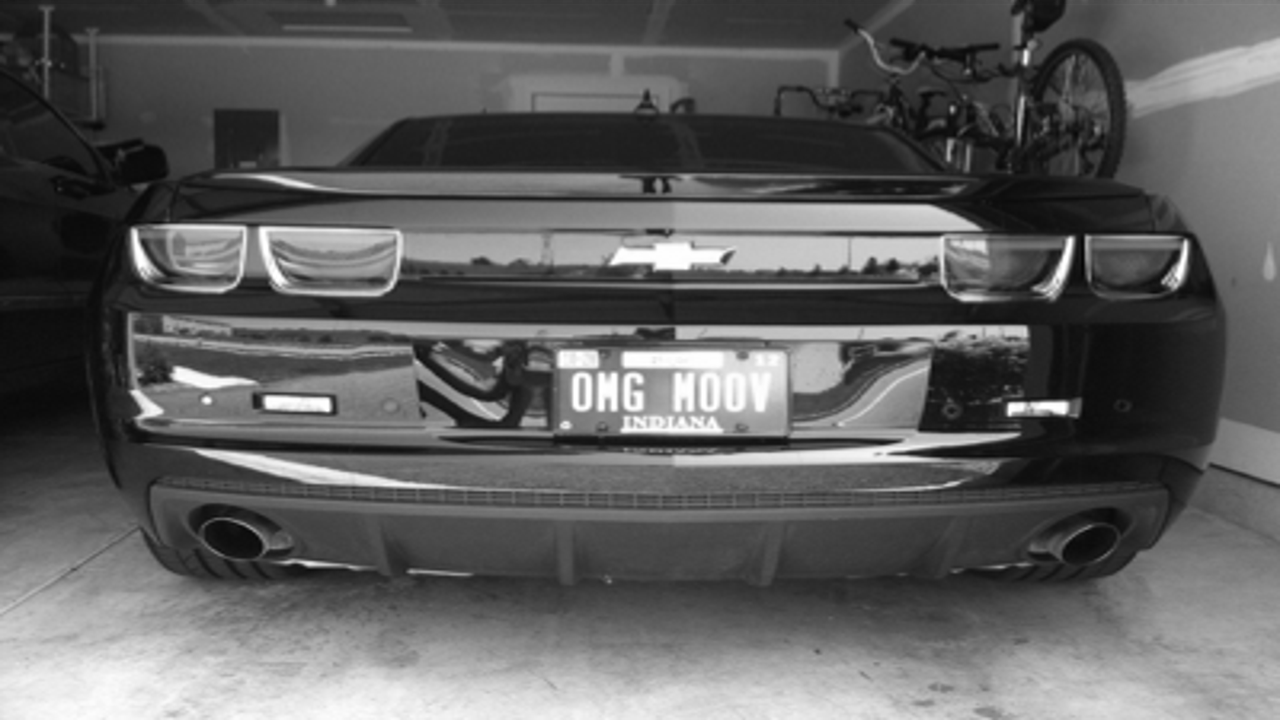license: (543, 337, 800, 450)
